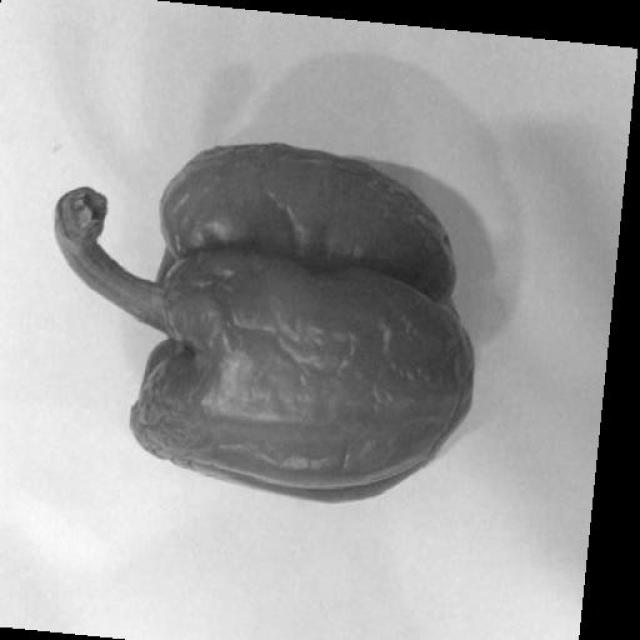Stale_Capsicum: (42, 121, 479, 496)
